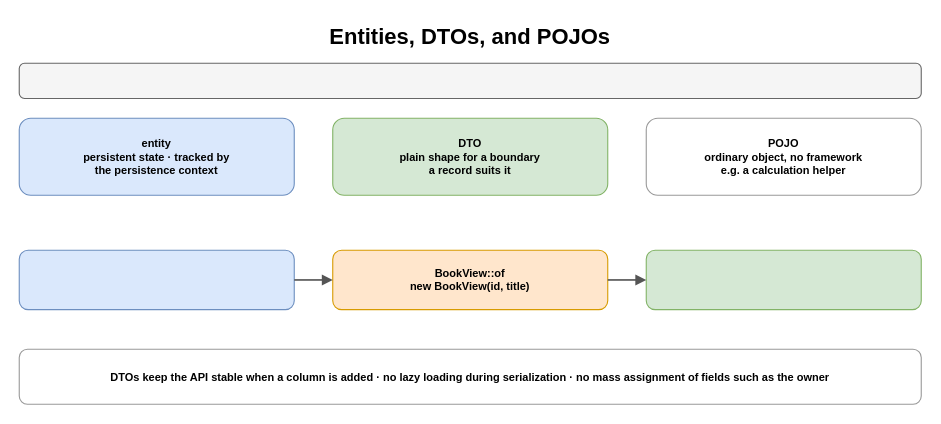
Image size: 941x424. Some labels were removed from this diagram. Here are the shapes that lost their labels. From the top down, the centre of each, then its label:
the point at 469,80: Keep each kind of object in its role
the point at 156,279: books.findAll() List<Book> entities
the point at 783,279: GET /api/books JSON of BookView
